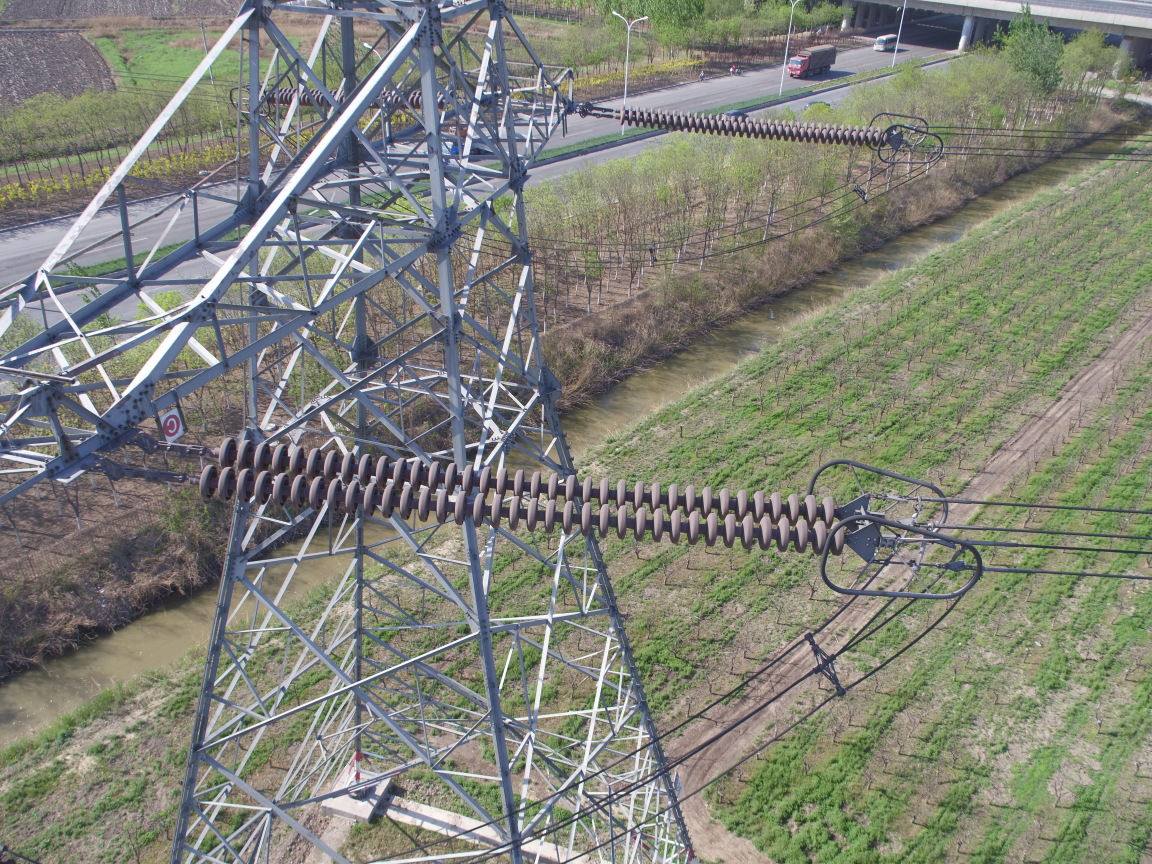insulator: (149, 433, 857, 559), (621, 103, 890, 148)
